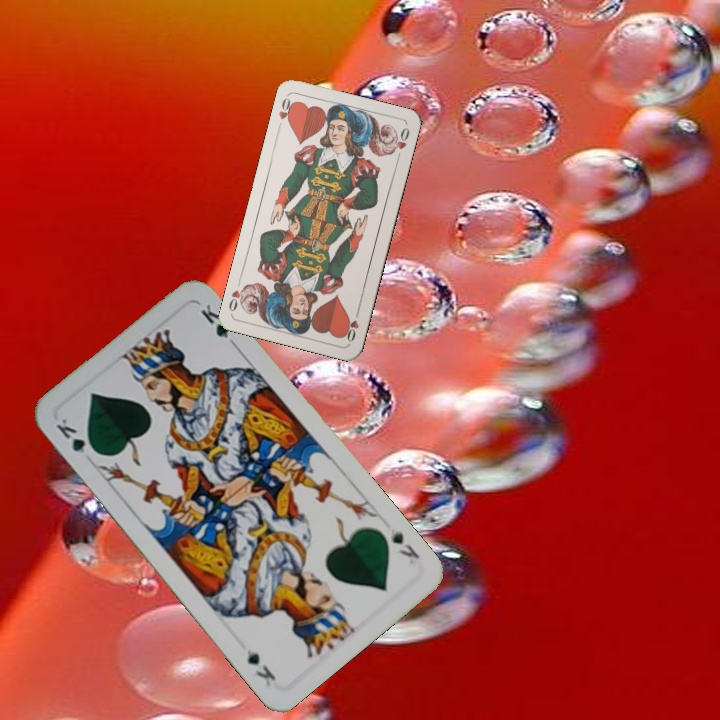GK: (51, 414, 101, 458), (386, 524, 422, 562)
HO: (274, 92, 297, 132), (341, 305, 362, 345)
